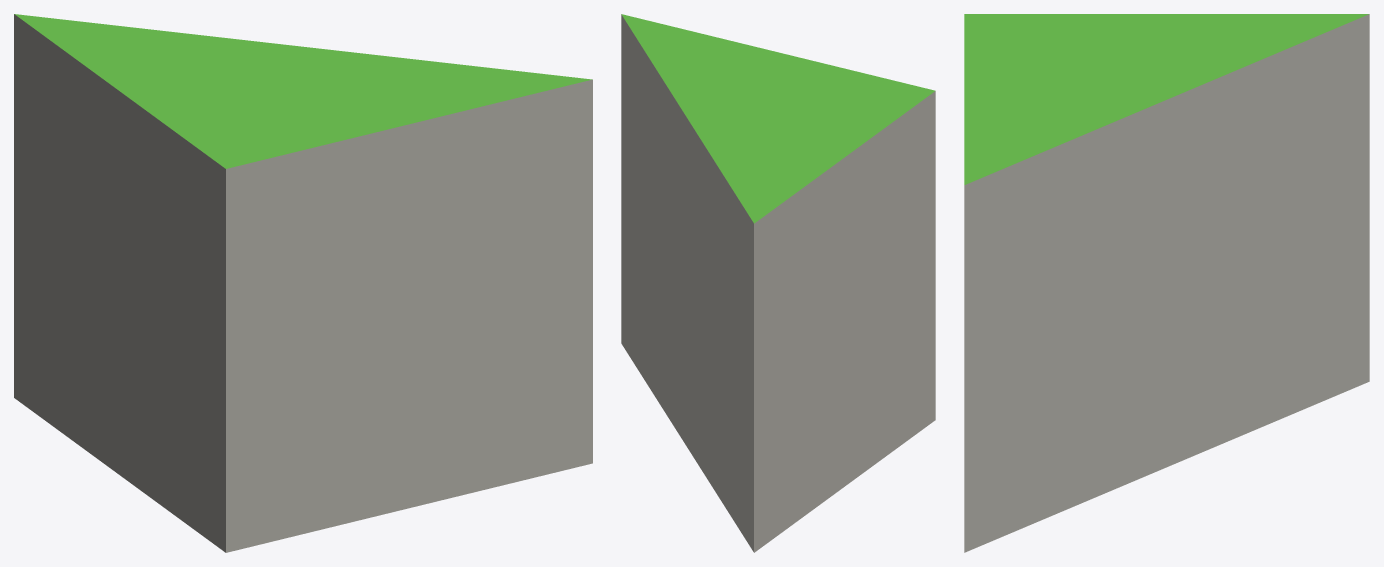
The model's file is cliff_blockDiagonal_stone.glb.
The picture shows the model from 3 angles, left to right: view 1: azimuth 30°, elevation 25°; view 2: azimuth 150°, elevation 25°; view 3: azimuth 270°, elevation 25°; orthographic projection. The views are drawn at different scales.
Visible parts, largest first — view 1: cliff_blockDiagonal_stone; view 2: cliff_blockDiagonal_stone; view 3: cliff_blockDiagonal_stone.
Part boxes in pixels (x1,y1,x2,y2): cliff_blockDiagonal_stone: (14, 14, 592, 552); cliff_blockDiagonal_stone: (621, 14, 935, 552); cliff_blockDiagonal_stone: (964, 14, 1369, 552).
Bounding box in the file's own units: 1 × 1 × 1.
